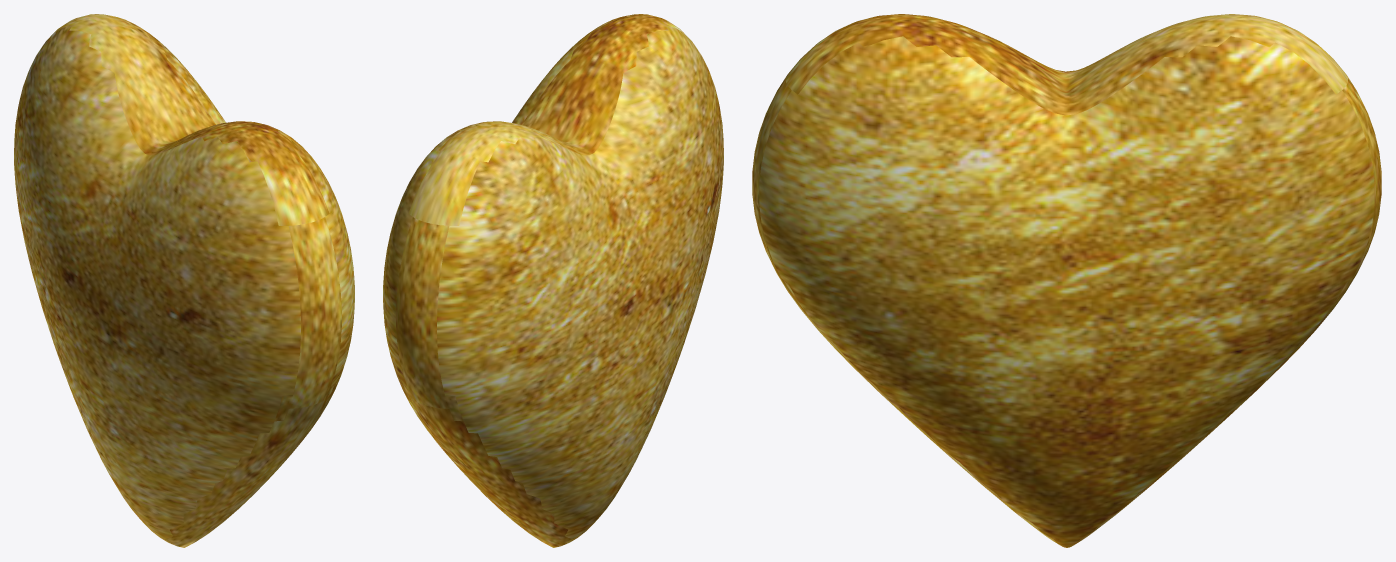
File: Heart.fbx
3 views of the same model, side by side, from view 1: azimuth 30°, elevation 25°; view 2: azimuth 150°, elevation 25°; view 3: azimuth 270°, elevation 25° (orthographic). The views are drawn at different scales.
Parts seen in each view (by area): view 1: Heart; view 2: Heart; view 3: Heart.
Part boxes in pixels (<box>): Heart: <box>14,14,354,547</box>; Heart: <box>383,14,723,547</box>; Heart: <box>752,14,1381,547</box>.
Size of the model in its own units: 59.95 by 139 by 150.
